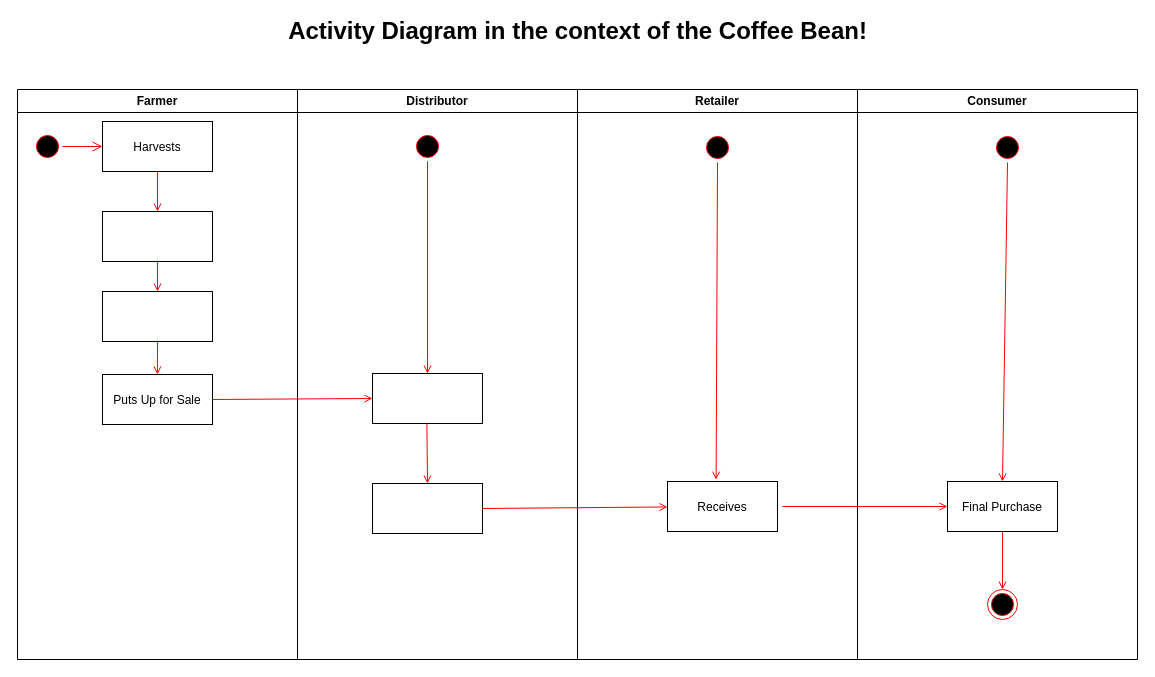
This 1155x677 diagram has some shape labels left out. The centre of each missing label's shape, as x and y in pixels:
"Buys" belongs at pixel 427 398.
"Packs" belongs at pixel 157 316.
"Processes" belongs at pixel 157 236.
"Ships" belongs at pixel 427 508.
